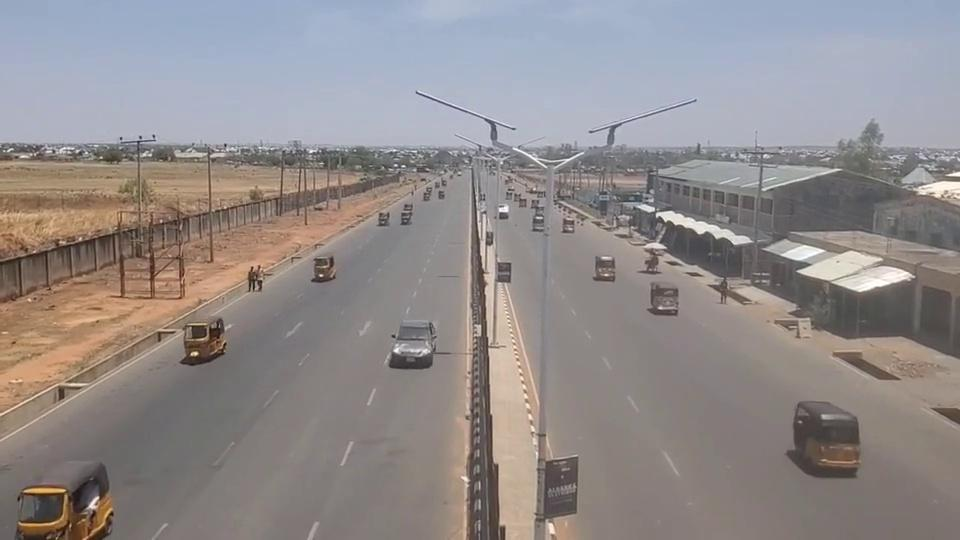car: (390, 320, 438, 367)
keke: (14, 459, 114, 539), (792, 399, 860, 472), (182, 317, 227, 361), (649, 281, 679, 315), (312, 254, 336, 281), (594, 255, 616, 281), (532, 214, 545, 231), (400, 208, 413, 225), (378, 211, 390, 226), (563, 218, 575, 233)
